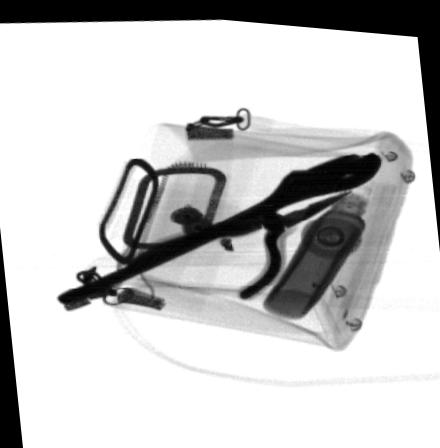Pliers: (127, 165, 350, 298)
Wrench: (58, 143, 386, 304)
